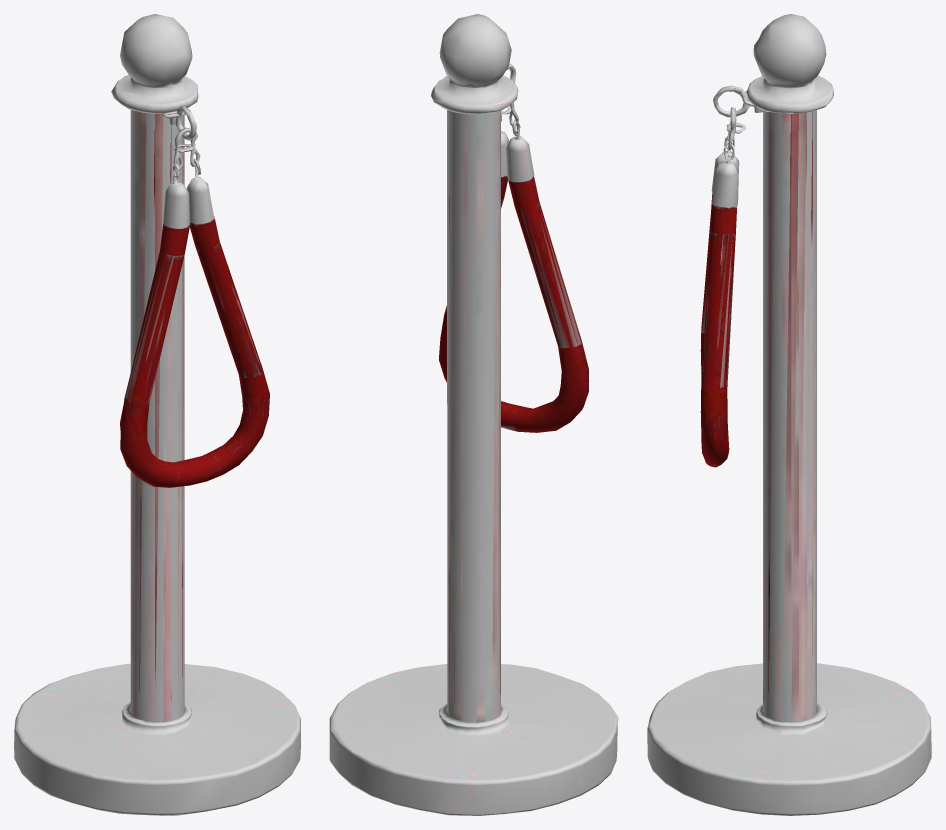
Rendered from skyways-prize-stanchion.glb.
3 renders of one model, left to right at view 1: azimuth 30°, elevation 25°; view 2: azimuth 150°, elevation 25°; view 3: azimuth 270°, elevation 25°, orthographic.
Visible parts, largest first — view 1: skyways-prize-stanchion; view 2: skyways-prize-stanchion; view 3: skyways-prize-stanchion.
Part boxes in pixels (x1,y1,x2,y2): skyways-prize-stanchion: [14, 14, 300, 815]; skyways-prize-stanchion: [329, 14, 618, 815]; skyways-prize-stanchion: [647, 14, 931, 815].
Size of the model in its own units: 0.34 by 0.96 by 0.3351.
Materials: 1 (1 with a texture image).
